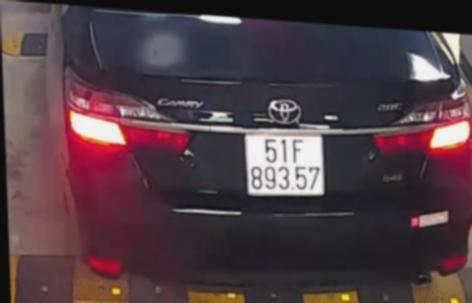License_Plate: (241, 130, 329, 200)
